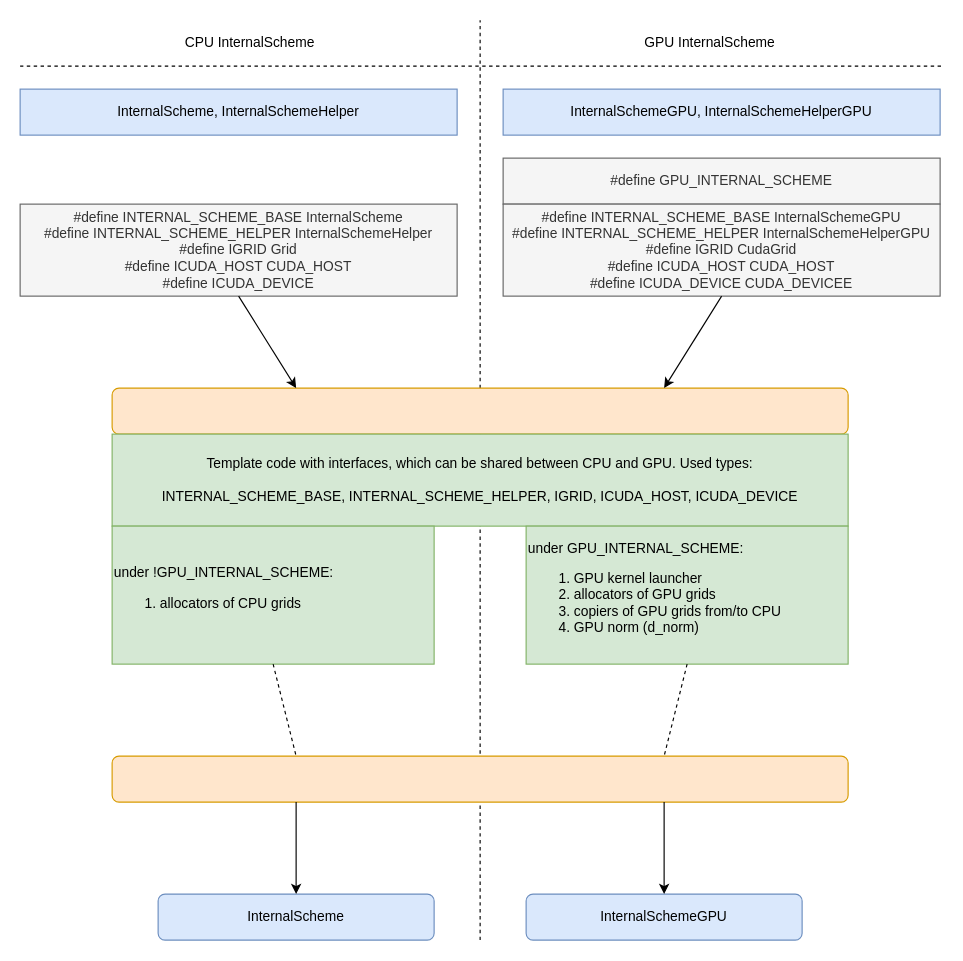
The diagram is 963 pixels wide and 961 high, and some of its shapes have lost their labels. The shapes that lost their labels are listed below. From the top down, each one's centre as x and y in pixels, then its label:
pixel 479 410: InternalScheme.inc.h
pixel 479 778: InternalScheme.specific.h
